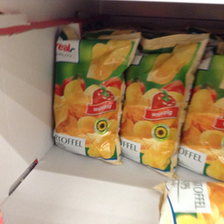chips: (123, 32, 203, 174), (52, 28, 133, 168)
